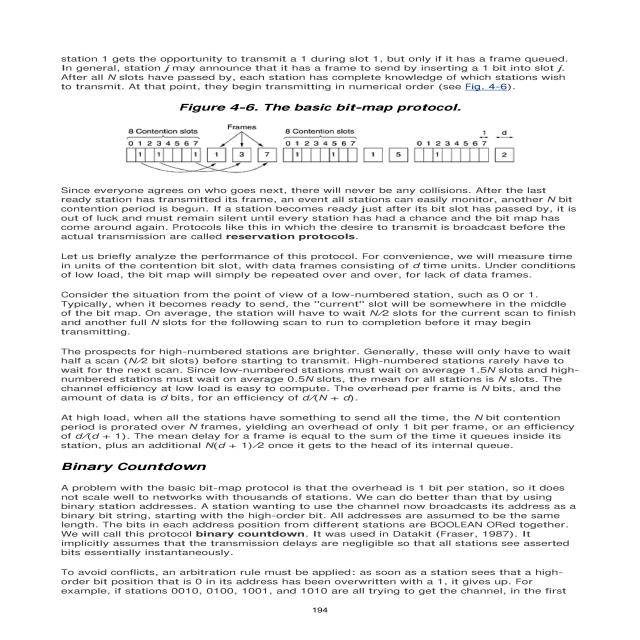diagram: (57, 94, 587, 183)
